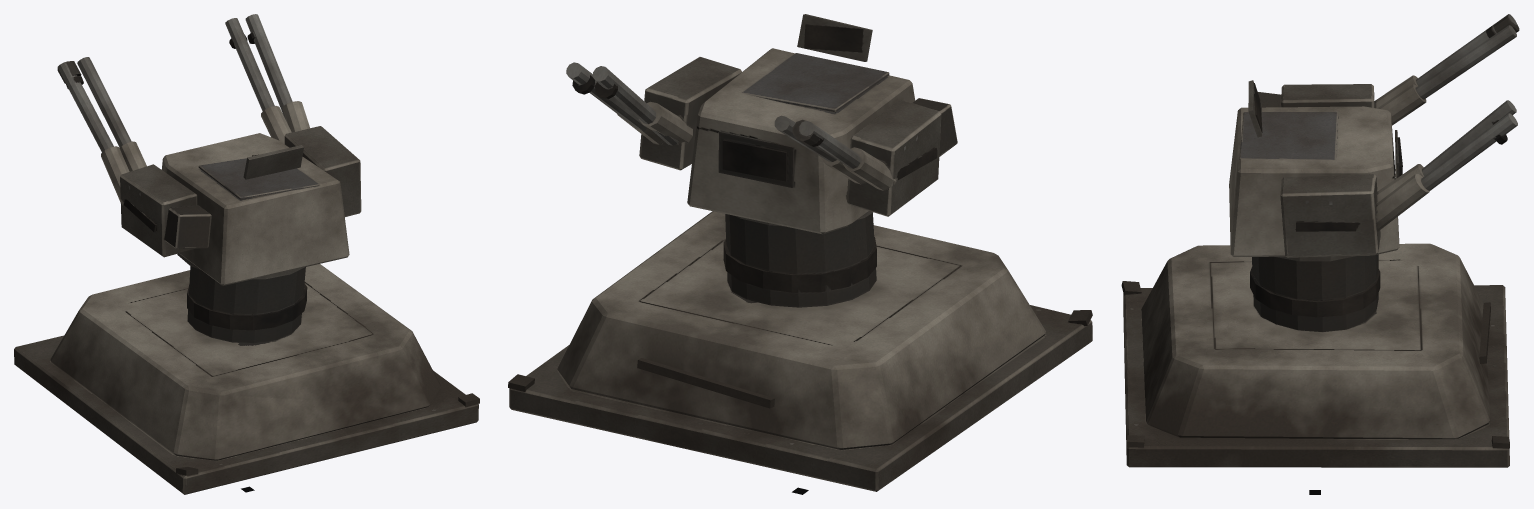
File: ord_lumen_wreck.fbx
3 renders of one model, left to right at view 1: azimuth 30°, elevation 25°; view 2: azimuth 150°, elevation 25°; view 3: azimuth 270°, elevation 25°, orthographic. The views are drawn at different scales.
Visible parts, largest first — view 1: base_bar, turret_bar; view 2: base_bar, turret_bar; view 3: base_bar, turret_bar.
Boxes of the visible parts, bbox=[...] form: base_bar: bbox=[14, 253, 479, 494]; turret_bar: bbox=[57, 14, 361, 285]; base_bar: bbox=[508, 211, 1092, 491]; turret_bar: bbox=[566, 14, 957, 234]; base_bar: bbox=[1121, 243, 1509, 467]; turret_bar: bbox=[1229, 14, 1519, 257].
Bounding box in the file's own units: 666 × 825 × 691.
Materials: 2 (2 with a texture image).
